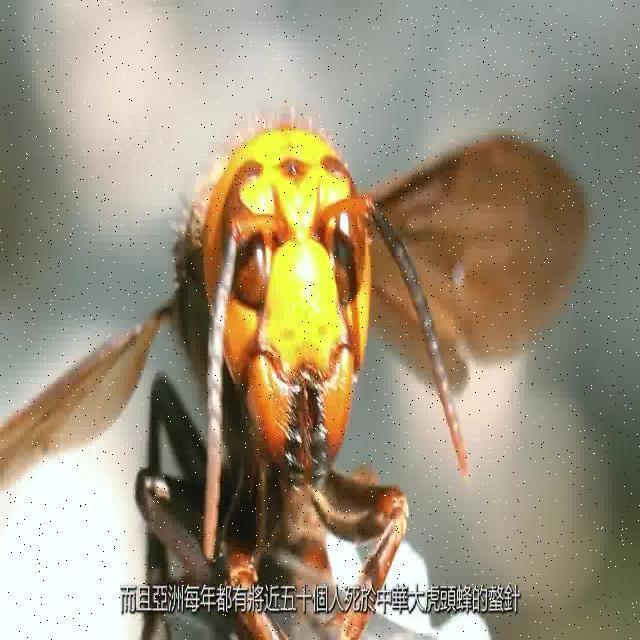Wasp: (1, 104, 584, 588)
